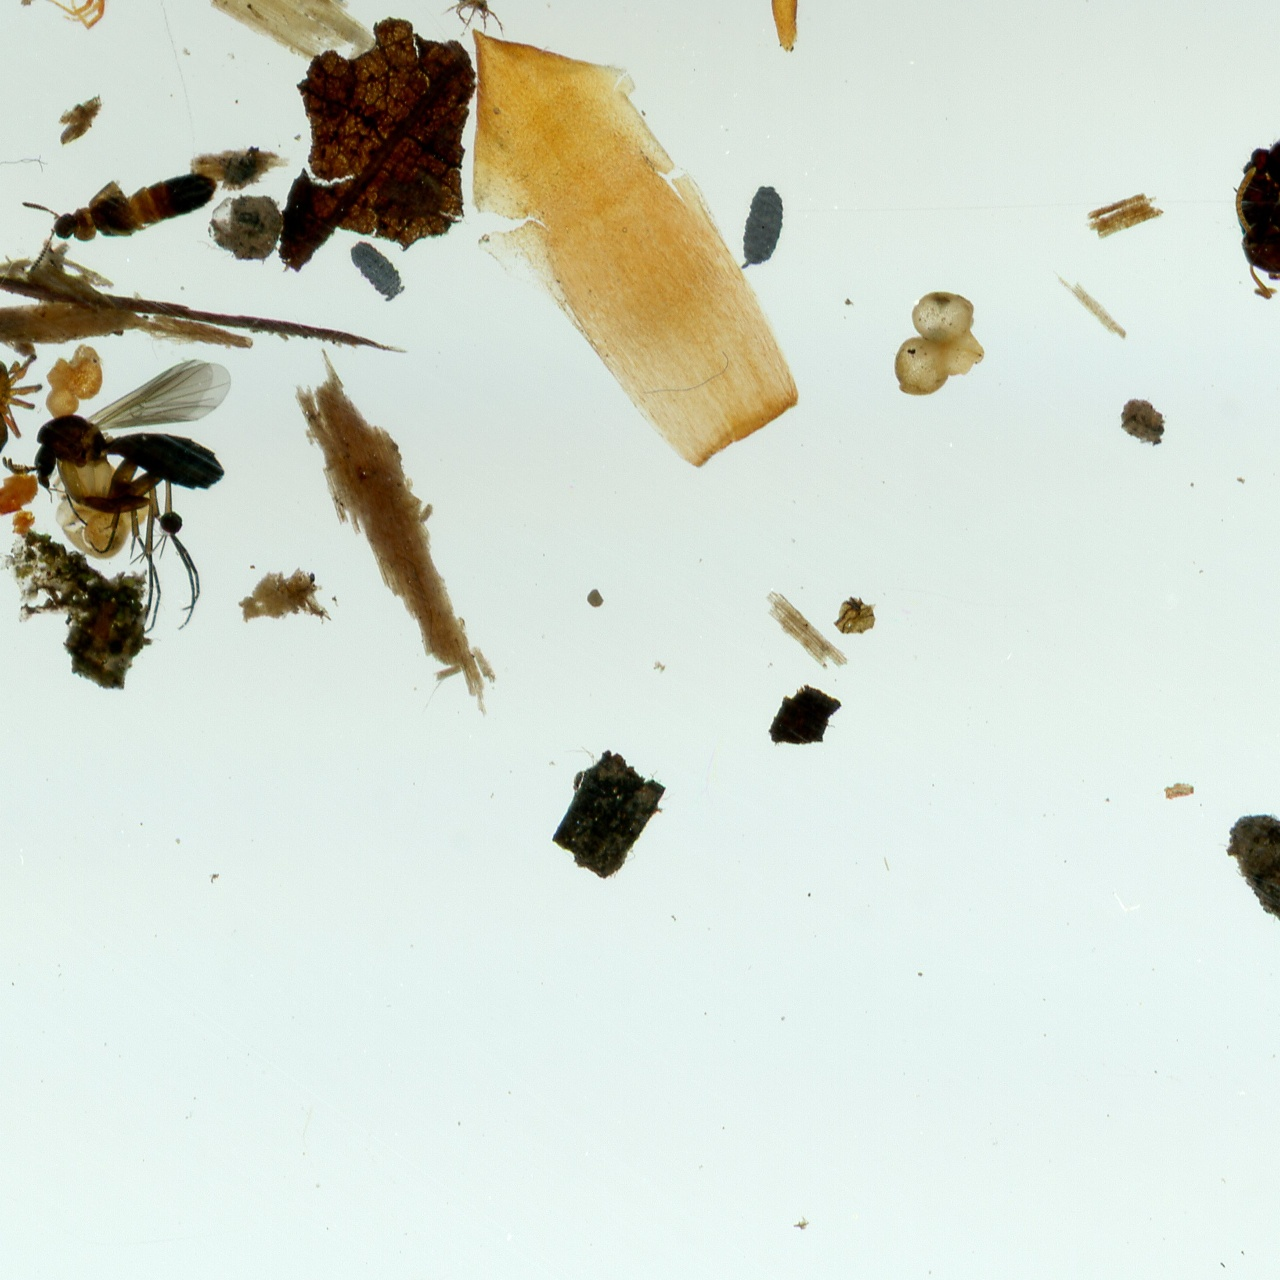arthropod: (0, 353, 240, 634), (8, 145, 228, 276), (1229, 94, 1280, 396), (0, 326, 53, 489), (734, 177, 794, 282), (341, 230, 413, 310), (6, 0, 126, 33), (438, 0, 507, 38)
